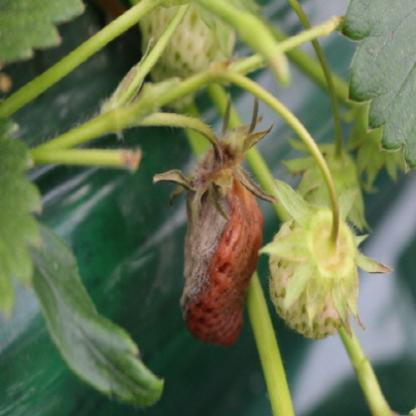Strawberry_Gray_Mold: (152, 91, 280, 348)
